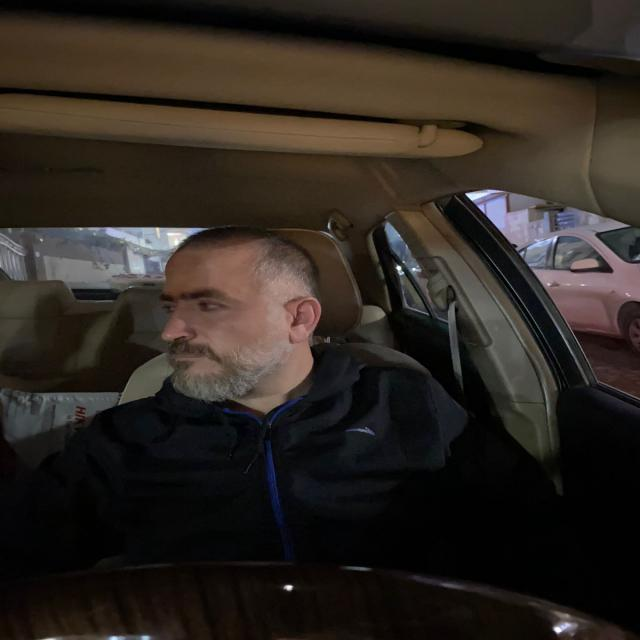LeftRight: (153, 227, 328, 408)
